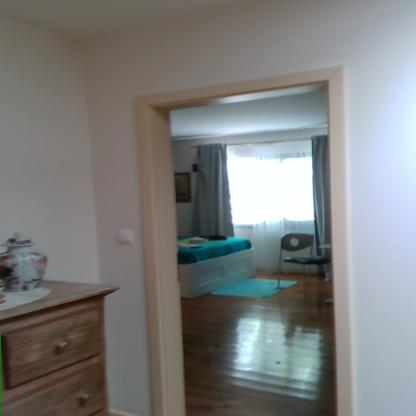open: (121, 60, 359, 415)
